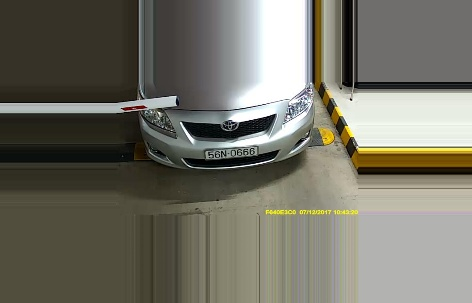plate: (202, 141, 260, 162)
